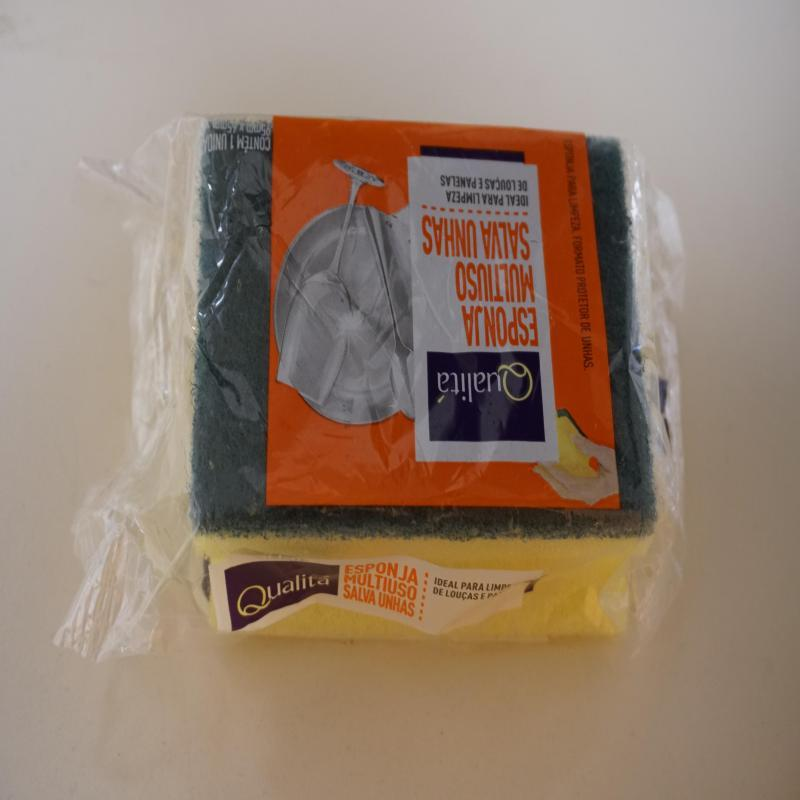Sponge: (57, 115, 686, 664)
